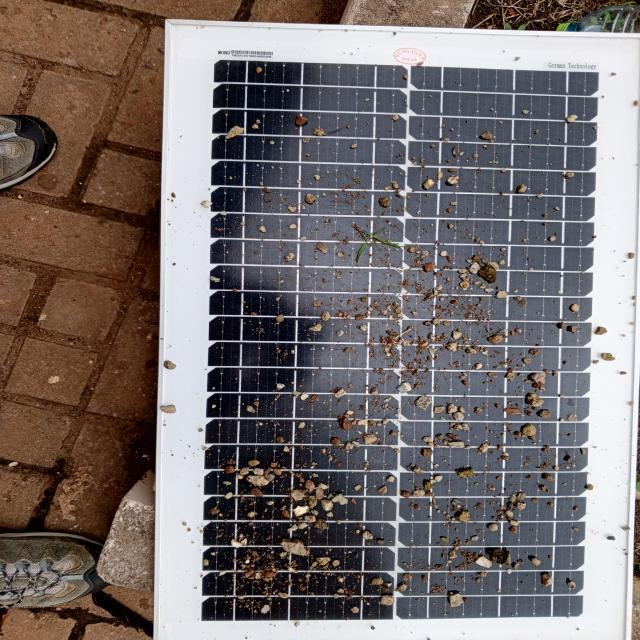Surface Contaminant: (178, 42, 615, 635)
